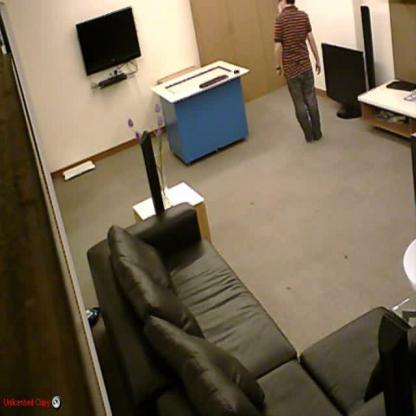Person: (274, 1, 323, 144)
